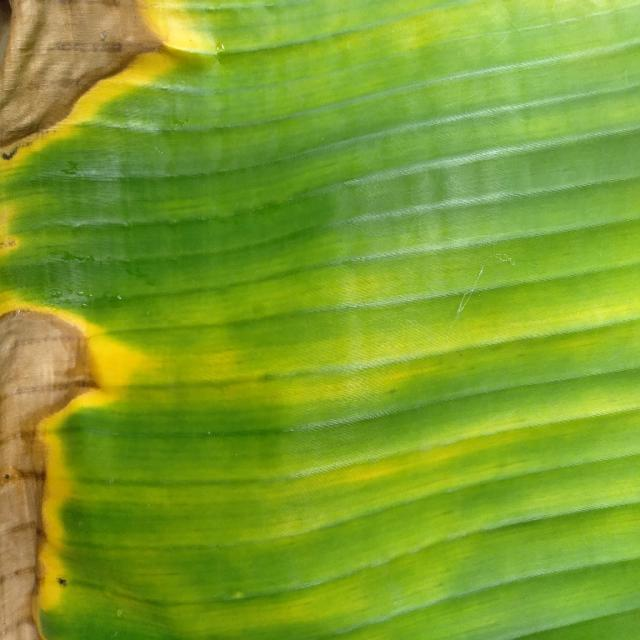Cordana: (180, 402, 519, 640), (2, 287, 219, 640), (231, 269, 639, 456), (0, 0, 264, 184), (302, 0, 551, 93), (0, 181, 62, 281)
